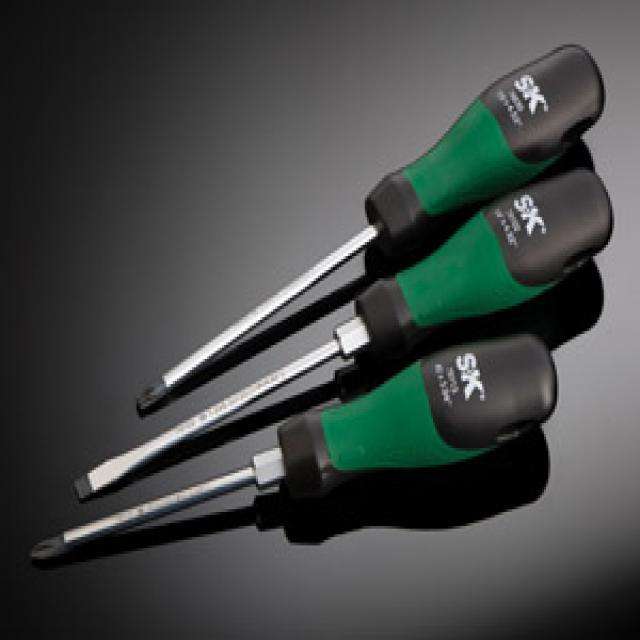screwdriver: (64, 165, 626, 504), (127, 34, 605, 418), (10, 318, 558, 592)
